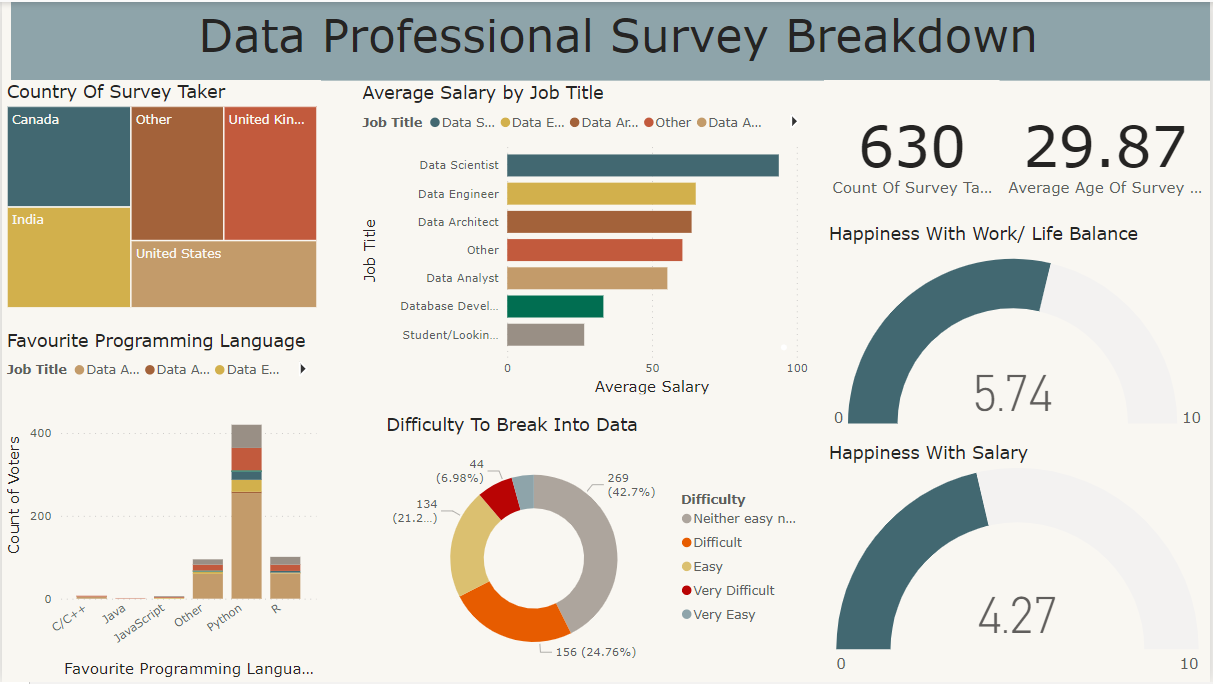

What the dashboard file says about the page in this screenshot:
{"tool":"powerbi","page":{"name":"Page 1","canvas":[1280,720],"ordinal":0},"visuals":[{"type":"textbox","box":[9.4,0,1270.6,83.1],"z":0},{"type":"card","fields":{"Values":["CountNonNull(Data Professional Survey.Unique ID)"]},"box":[870.5,82.5,186.1,150.5],"z":1000},{"type":"card","fields":{"Values":["Avg(Data Professional Survey.Q10 - Current Age)"]},"box":[1056.5,84.1,223.3,148.9],"z":2000},{"type":"barChart","title":"Average Salary by Job Title","fields":{"Category":["Data Professional Survey.Q1 - Which Title Best Fits your Current Role?.1"],"Y":["Avg(Data Professional Survey.Average Salary)"],"Series":["Data Professional Survey.Q1 - Which Title Best Fits your Current Role?.1"]},"box":[377,84.1,482.2,336.5],"z":3000},{"type":"columnChart","title":"Favourite Programming Language","fields":{"Category":["Data Professional Survey.Q5 - Favorite Programming Language.1"],"Y":["CountNonNull(Data Professional Survey.Unique ID)"],"Series":["Data Professional Survey.Q1 - Which Title Best Fits your Current Role?.1"]},"box":[0,346.2,338.2,373.8],"z":4000},{"type":"treemap","title":"Country Of Survey Taker","fields":{"Group":["Data Professional Survey.Q11 - Which Country do you live in?.1"],"Values":["Count(Data Professional Survey.Q11 - Which Country do you live in?.1)"]},"box":[0,82.5,338.2,245.9],"z":5000},{"type":"gauge","title":"Happiness With Work/ Life Balance","fields":{"Y":["Avg(Data Professional Survey.Q6 - How Happy are you in your Current Position with the following? (Work/Life Balance))"],"MinValue":["Min(Data Professional Survey.Q6 - How Happy are you in your Current Position with the following? (Work/Life Balance))1"],"MaxValue":["Max(Data Professional Survey.Q6 - How Happy are you in your Current Position with the following? (Work/Life Balance))2"]},"box":[870.5,233,409.3,233],"z":6000},{"type":"gauge","title":"Happiness With Salary","fields":{"Y":["Avg(Data Professional Survey.Q6 - How Happy are you in your Current Position with the following? (Salary))"],"MinValue":["Min(Data Professional Survey.Q6 - How Happy are you in your Current Position with the following? (Salary))"],"MaxValue":["Max(Data Professional Survey.Q6 - How Happy are you in your Current Position with the following? (Salary))"]},"box":[870.5,466,409.3,254],"z":7000},{"type":"donutChart","title":"Difficulty To Break Into Data","fields":{"Category":["Data Professional Survey.Q7 - How difficult was it for you to break into Data?"],"Y":["CountNonNull(Data Professional Survey.Q7 - How difficult was it for you to break into Data?)"]},"box":[402.9,435.2,456.3,284.8],"z":8000}]}

Visuals, with their boxes in screenshot pixels (x1, y1, x2, y2), scaled from the page's 1280x720 canvas onto the 1213x684 screenshot:
textbox: 9 0 1212 79
card - CountNonNull(Data Professional Survey.Unique ID): 825 78 1001 221
card - Avg(Data Professional Survey.Q10 - Current Age): 1001 80 1212 221
"Average Salary by Job Title" barChart: 357 80 814 400
"Favourite Programming Language" columnChart: 0 329 320 683
"Country Of Survey Taker" treemap: 0 78 320 312
"Happiness With Work/ Life Balance" gauge: 825 221 1212 443
"Happiness With Salary" gauge: 825 443 1212 683
"Difficulty To Break Into Data" donutChart: 382 413 814 683
